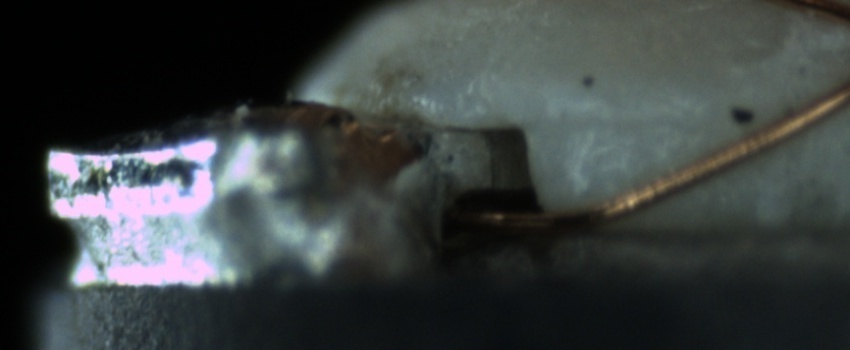DL: (553, 85, 710, 153)
